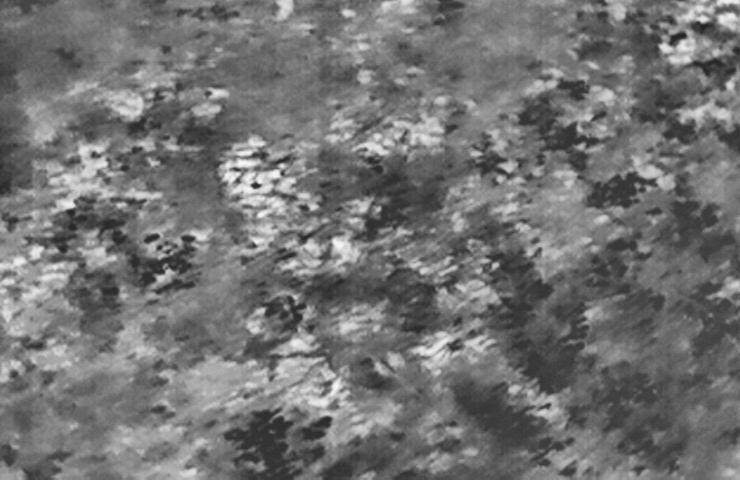landmines: (213, 137, 321, 239)
